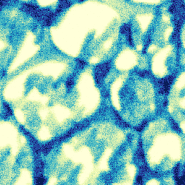hole_empty: (115, 49, 141, 73)
hole_filled: (3, 56, 106, 142), (40, 111, 141, 184), (47, 4, 128, 63), (1, 5, 43, 81), (108, 71, 159, 129), (0, 118, 40, 185), (140, 116, 184, 174), (148, 42, 181, 78)
